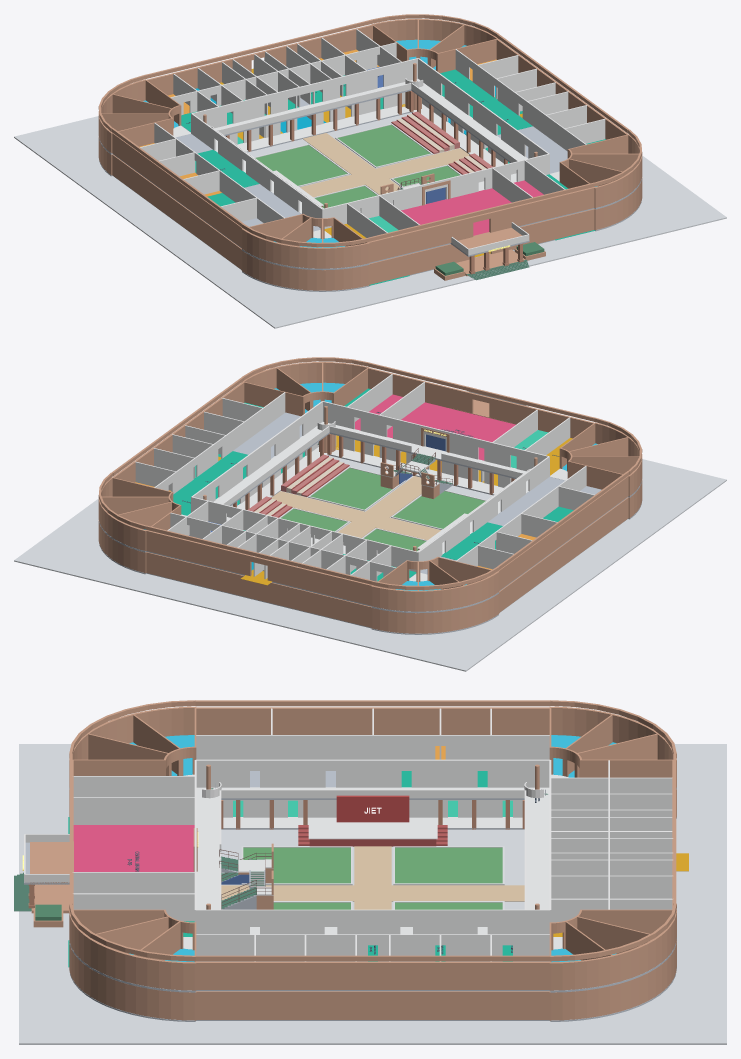
File: jiet_campus_prototype.glb
3 renders of one model, top to bottom at view 1: azimuth 30°, elevation 25°; view 2: azimuth 150°, elevation 25°; view 3: azimuth 270°, elevation 25°, orthographic. The views are drawn at different scales.
Visible parts, largest first — view 1: Courtyard_Base_Foundation, FF_Interior_Room_Partition_Walls, FF_Corridor_Dividing_Walls_With_Doors, FF_Exterior_Facade_Walls, GF_Exterior_Facade_Walls, Roof_Perimeter_Parapet_Clean, Courtyard_4_Lawns, Corner_SW_FF_Partition_And_Door_Walls, Corner_NE_FF_Partition_And_Door_Walls, Corner_SE_FF_Partition_And_Door_Walls, Corner_NW_FF_Partition_And_Door_Walls, FF_Structural_Floor_Slab (+17 smaller); view 2: Courtyard_Base_Foundation, FF_Interior_Room_Partition_Walls, FF_Exterior_Facade_Walls, FF_Corridor_Dividing_Walls_With_Doors, GF_Exterior_Facade_Walls, Roof_Perimeter_Parapet_Clean, Courtyard_4_Lawns, Corner_NW_FF_Partition_And_Door_Walls, Corner_SE_FF_Partition_And_Door_Walls, Corner_SW_FF_Partition_And_Door_Walls, Corner_NE_FF_Partition_And_Door_Walls, FF_Structural_Floor_Slab (+15 smaller); view 3: Courtyard_Base_Foundation, FF_Interior_Room_Partition_Walls, FF_Exterior_Facade_Walls, FF_Corridor_Dividing_Walls_With_Doors, GF_Exterior_Facade_Walls, Roof_Perimeter_Parapet_Clean, Courtyard_4_Lawns, Corner_NE_FF_Partition_And_Door_Walls, Corner_SE_FF_Partition_And_Door_Walls, Corner_NW_FF_Partition_And_Door_Walls, Corner_SW_FF_Partition_And_Door_Walls, FF_Veranda_10ft_Corridors (+17 smaller).
Boxes of the visible parts, x1=… form: Courtyard_Base_Foundation: x1=14, y1=112, x2=726, y2=328; FF_Interior_Room_Partition_Walls: x1=140, y1=29, x2=605, y2=237; FF_Corridor_Dividing_Walls_With_Doors: x1=191, y1=58, x2=549, y2=228; FF_Exterior_Facade_Walls: x1=112, y1=24, x2=628, y2=262; GF_Exterior_Facade_Walls: x1=112, y1=154, x2=594, y2=284; Roof_Perimeter_Parapet_Clean: x1=98, y1=14, x2=642, y2=247; Courtyard_4_Lawns: x1=255, y1=125, x2=459, y2=208; Corner_SW_FF_Partition_And_Door_Walls: x1=241, y1=203, x2=369, y2=268; Corner_NE_FF_Partition_And_Door_Walls: x1=371, y1=19, x2=497, y2=81; Corner_SE_FF_Partition_And_Door_Walls: x1=534, y1=134, x2=642, y2=208; Corner_NW_FF_Partition_And_Door_Walls: x1=98, y1=79, x2=206, y2=153; FF_Structural_Floor_Slab: x1=99, y1=89, x2=641, y2=270; Courtyard_Base_Foundation: x1=14, y1=455, x2=726, y2=671; FF_Interior_Room_Partition_Walls: x1=135, y1=374, x2=594, y2=581; FF_Exterior_Facade_Walls: x1=112, y1=367, x2=628, y2=605; FF_Corridor_Dividing_Walls_With_Doors: x1=191, y1=401, x2=549, y2=571; GF_Exterior_Facade_Walls: x1=146, y1=497, x2=628, y2=627; Roof_Perimeter_Parapet_Clean: x1=98, y1=357, x2=642, y2=590; Courtyard_4_Lawns: x1=281, y1=468, x2=485, y2=551; Corner_NW_FF_Partition_And_Door_Walls: x1=371, y1=546, x2=499, y2=611; Corner_SE_FF_Partition_And_Door_Walls: x1=243, y1=362, x2=369, y2=424; Corner_SW_FF_Partition_And_Door_Walls: x1=534, y1=422, x2=642, y2=496; Corner_NE_FF_Partition_And_Door_Walls: x1=98, y1=477, x2=206, y2=551; FF_Structural_Floor_Slab: x1=99, y1=412, x2=641, y2=613; Courtyard_Base_Foundation: x1=19, y1=744, x2=726, y2=1044; FF_Interior_Room_Partition_Walls: x1=72, y1=708, x2=673, y2=961; FF_Exterior_Facade_Walls: x1=72, y1=707, x2=673, y2=989; FF_Corridor_Dividing_Walls_With_Doors: x1=194, y1=759, x2=551, y2=934; GF_Exterior_Facade_Walls: x1=196, y1=991, x2=549, y2=1019; Roof_Perimeter_Parapet_Clean: x1=69, y1=700, x2=676, y2=961; Courtyard_4_Lawns: x1=243, y1=847, x2=502, y2=909; Corner_NE_FF_Partition_And_Door_Walls: x1=535, y1=903, x2=676, y2=990; Corner_SE_FF_Partition_And_Door_Walls: x1=69, y1=903, x2=210, y2=990; Corner_NW_FF_Partition_And_Door_Walls: x1=535, y1=706, x2=676, y2=789; Corner_SW_FF_Partition_And_Door_Walls: x1=69, y1=706, x2=210, y2=789; FF_Veranda_10ft_Corridors: x1=196, y1=787, x2=549, y2=934.
Size of the model in its own units: 84 by 8.73 by 84.6.
